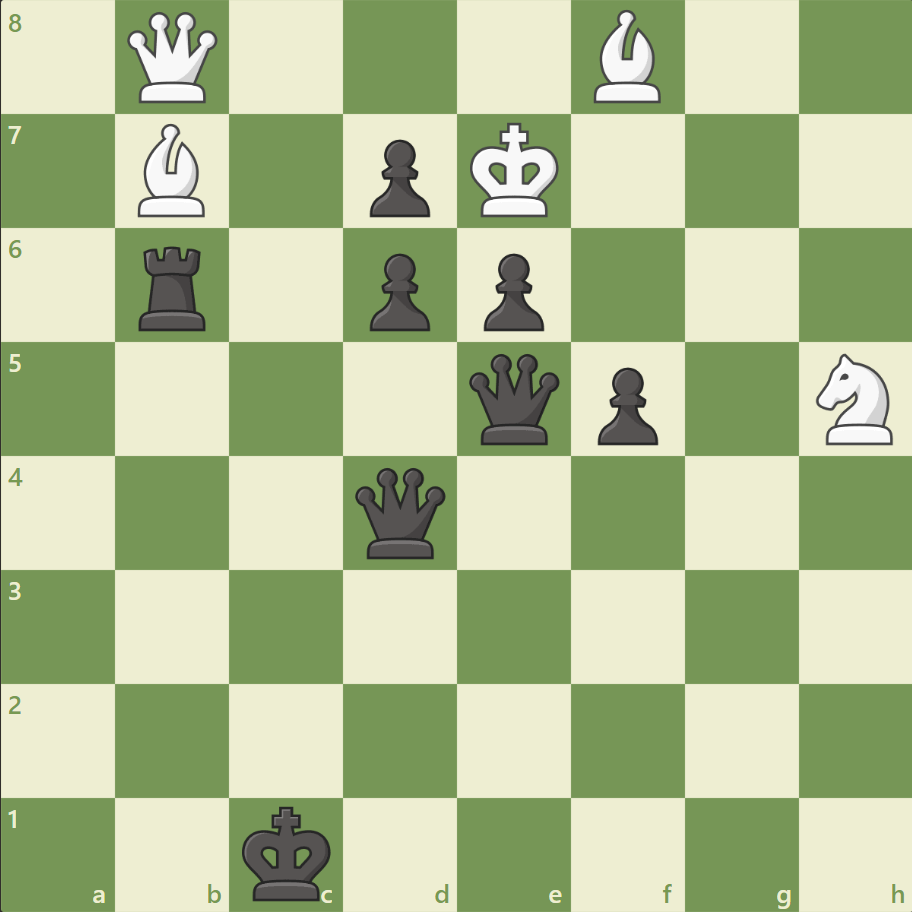B: (585, 6, 669, 109), (131, 120, 215, 222)
K: (465, 117, 565, 225)
N: (806, 348, 903, 450)
Q: (124, 9, 223, 108)
k: (238, 798, 338, 906)
p: (474, 246, 549, 337), (361, 132, 435, 223), (361, 246, 435, 337), (588, 359, 662, 450)
q: (464, 349, 563, 449), (351, 463, 450, 562)
r: (133, 239, 215, 336)
